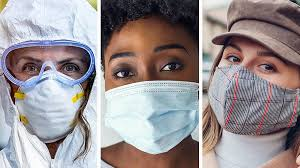with-mask: (102, 3, 200, 156), (1, 1, 99, 145), (207, 3, 300, 134)
